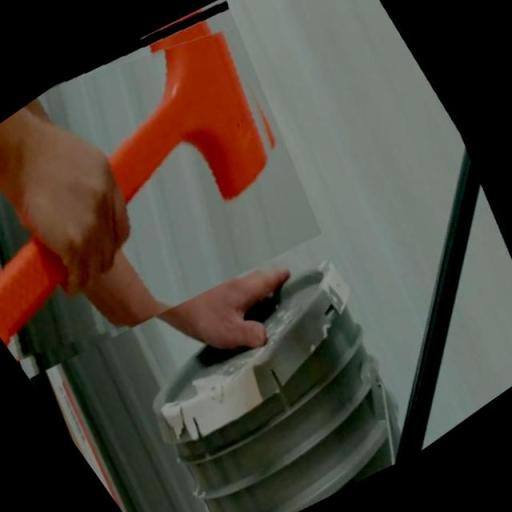mallet: (0, 0, 372, 420)
